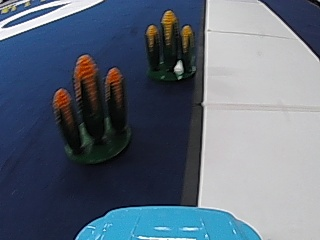corn: (53, 53, 134, 168), (142, 9, 197, 82)
